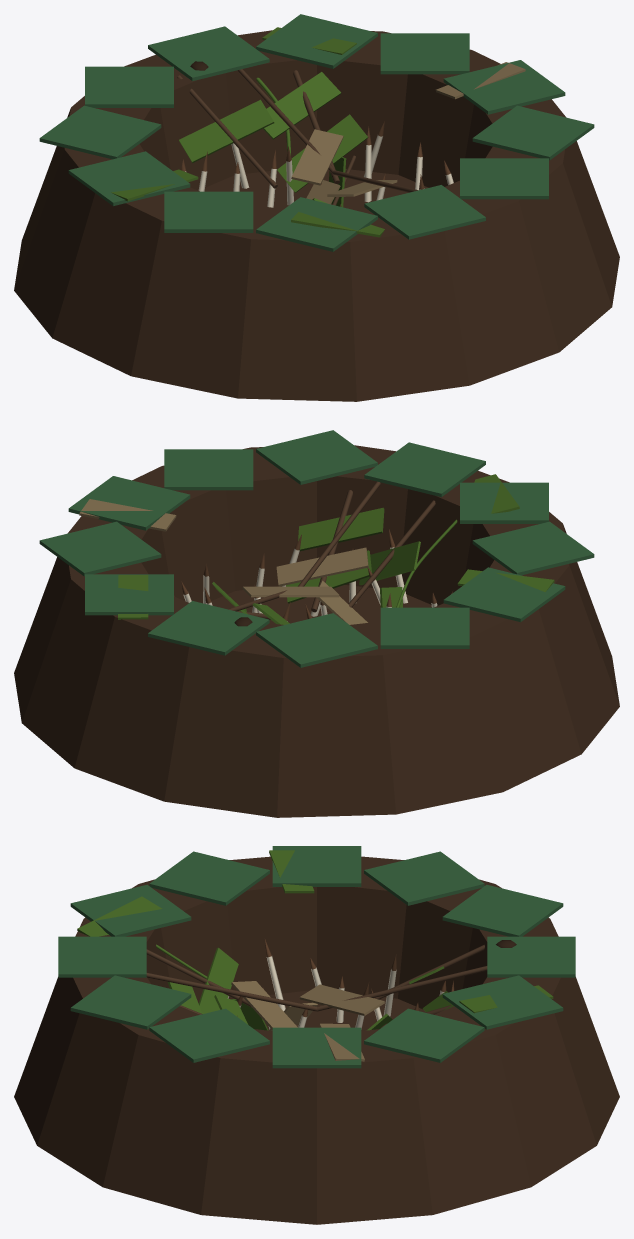
The model's file is punji-trap.glb.
The picture shows the model from 3 angles, top to bottom: view 1: azimuth 30°, elevation 25°; view 2: azimuth 150°, elevation 25°; view 3: azimuth 270°, elevation 25°; orthographic projection.
Visible parts, largest first — view 1: Mesh_ExcavatedPit, Mesh_GrassPatch_0, Mesh_GrassPatch_10, Mesh_GrassPatch_4, Mesh_GrassPatch_2, Mesh_GrassPatch_8, Mesh_GrassPatch_6, Mesh_GrassPatch_11, Mesh_GrassPatch_5, Mesh_GrassPatch_3, Mesh_GrassPatch_9, Mesh_GrassPatch_7 (+10 smaller); view 2: Mesh_ExcavatedPit, Mesh_GrassPatch_5, Mesh_GrassPatch_8, Mesh_GrassPatch_11, Mesh_GrassPatch_0, Mesh_GrassPatch_2, Mesh_GrassPatch_4, Mesh_GrassPatch_10, Mesh_GrassPatch_6, Mesh_GrassPatch_3, Mesh_GrassPatch_9, Mesh_GrassPatch_1 (+13 smaller); view 3: Mesh_ExcavatedPit, Mesh_GrassPatch_11, Mesh_GrassPatch_8, Mesh_GrassPatch_10, Mesh_GrassPatch_2, Mesh_GrassPatch_4, Mesh_GrassPatch_5, Mesh_GrassPatch_0, Mesh_GrassPatch_6, Mesh_GrassPatch_9, Mesh_GrassPatch_7, Mesh_GrassPatch_3 (+11 smaller).
Part boxes in pixels (bbox=[...]): Mesh_ExcavatedPit: bbox=[14, 30, 619, 401]; Mesh_GrassPatch_0: bbox=[364, 185, 485, 239]; Mesh_GrassPatch_10: bbox=[472, 105, 594, 160]; Mesh_GrassPatch_4: bbox=[39, 105, 161, 159]; Mesh_GrassPatch_2: bbox=[164, 191, 253, 232]; Mesh_GrassPatch_8: bbox=[380, 33, 469, 74]; Mesh_GrassPatch_6: bbox=[148, 26, 269, 81]; Mesh_GrassPatch_11: bbox=[460, 158, 548, 199]; Mesh_GrassPatch_5: bbox=[85, 66, 173, 107]; Mesh_GrassPatch_3: bbox=[68, 151, 190, 206]; Mesh_GrassPatch_9: bbox=[443, 60, 565, 114]; Mesh_GrassPatch_7: bbox=[256, 14, 377, 68]; Mesh_ExcavatedPit: bbox=[14, 445, 619, 817]; Mesh_GrassPatch_5: bbox=[256, 613, 377, 667]; Mesh_GrassPatch_8: bbox=[39, 521, 161, 576]; Mesh_GrassPatch_11: bbox=[256, 430, 377, 484]; Mesh_GrassPatch_0: bbox=[364, 442, 485, 497]; Mesh_GrassPatch_2: bbox=[472, 521, 594, 575]; Mesh_GrassPatch_4: bbox=[380, 607, 469, 648]; Mesh_GrassPatch_10: bbox=[164, 449, 253, 490]; Mesh_GrassPatch_6: bbox=[148, 601, 269, 655]; Mesh_GrassPatch_3: bbox=[443, 567, 565, 622]; Mesh_GrassPatch_9: bbox=[68, 476, 190, 530]; Mesh_GrassPatch_1: bbox=[460, 482, 548, 523]; Mesh_ExcavatedPit: bbox=[14, 856, 619, 1224]; Mesh_GrassPatch_11: bbox=[70, 975, 191, 1029]; Mesh_GrassPatch_8: bbox=[364, 1008, 484, 1062]; Mesh_GrassPatch_10: bbox=[149, 1008, 269, 1062]; Mesh_GrassPatch_2: bbox=[149, 851, 269, 905]; Mesh_GrassPatch_4: bbox=[364, 851, 484, 905]; Mesh_GrassPatch_5: bbox=[442, 884, 563, 936]; Mesh_GrassPatch_0: bbox=[58, 936, 146, 977]; Mesh_GrassPatch_6: bbox=[487, 936, 575, 977]; Mesh_GrassPatch_9: bbox=[272, 1027, 361, 1068]; Mesh_GrassPatch_7: bbox=[442, 975, 563, 1029]; Mesh_GrassPatch_3: bbox=[272, 846, 361, 886].
Size of what is drawn, in the model's own units: 2.4 by 0.6348 by 2.4.
